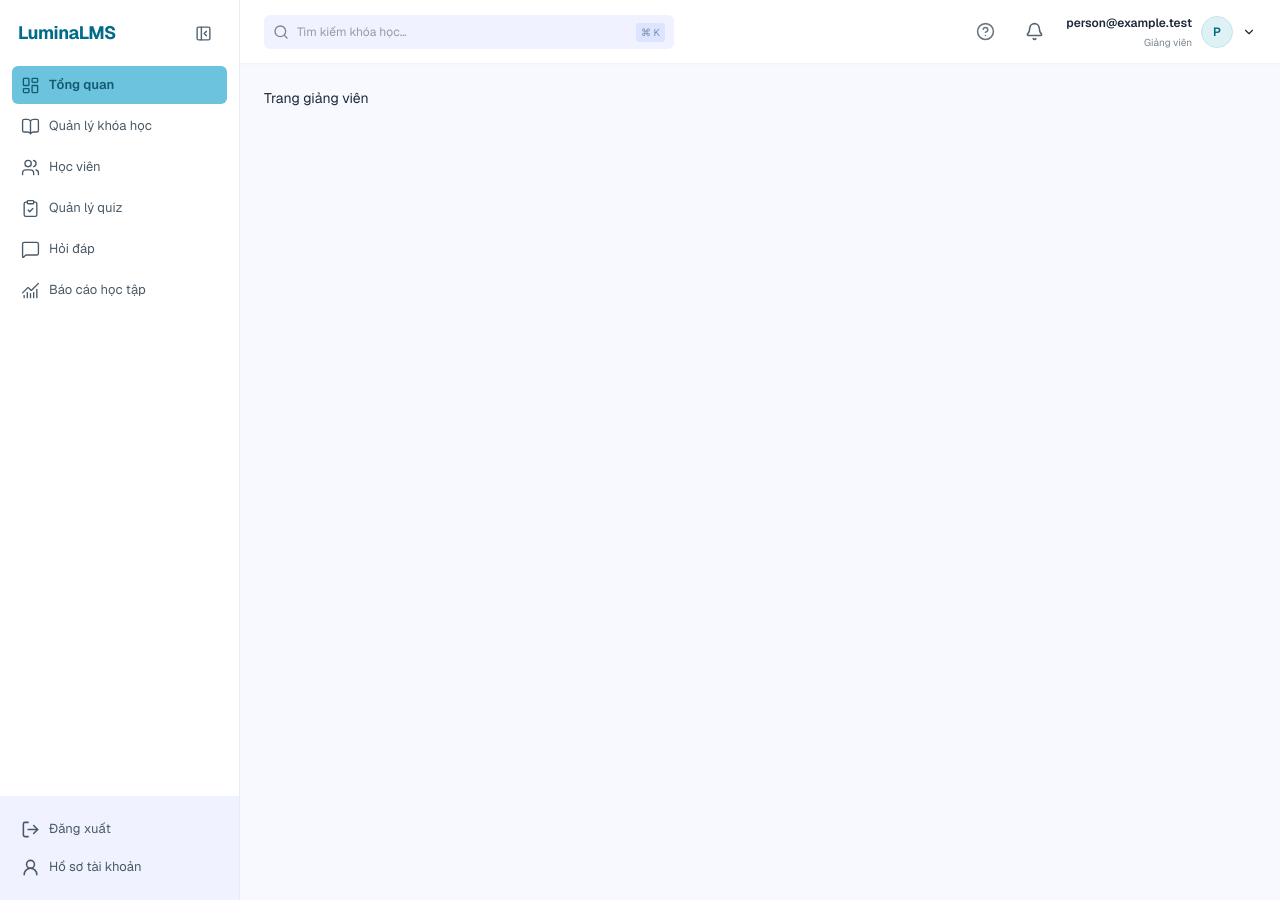
Dashboard role navigation › can collapse and expand the desktop sidebar without losing accessible labels
Click the button named "Thu gọn sidebar" at point(203, 33), box [185,15,221,51]
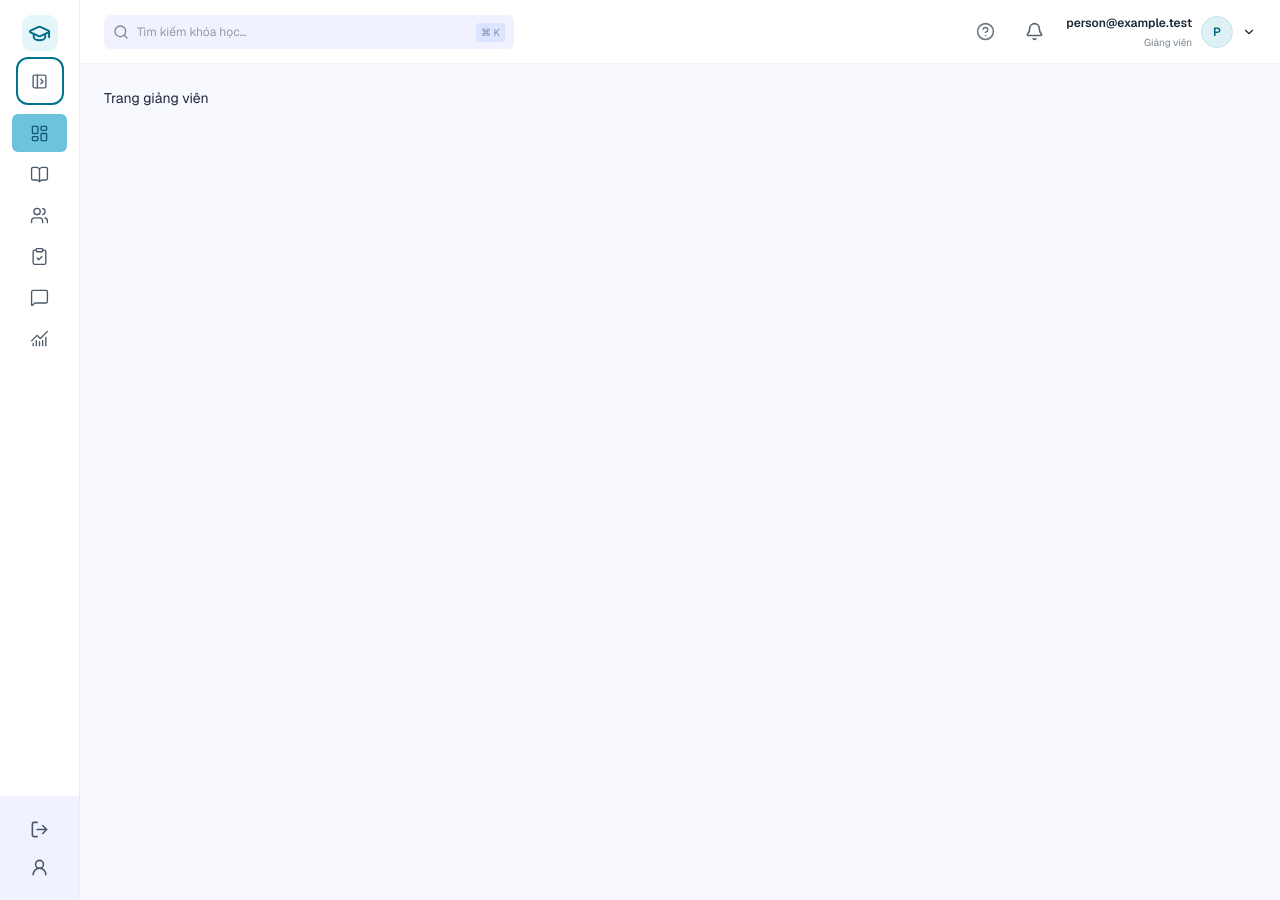
Expected: the link named "Quản lý khóa học" is shown, [12,155,67,193]
Expected: the button named "Mở rộng sidebar" is collapsed
Click the button named "Mở rộng sidebar" at point(40, 81), box [22,63,58,99]
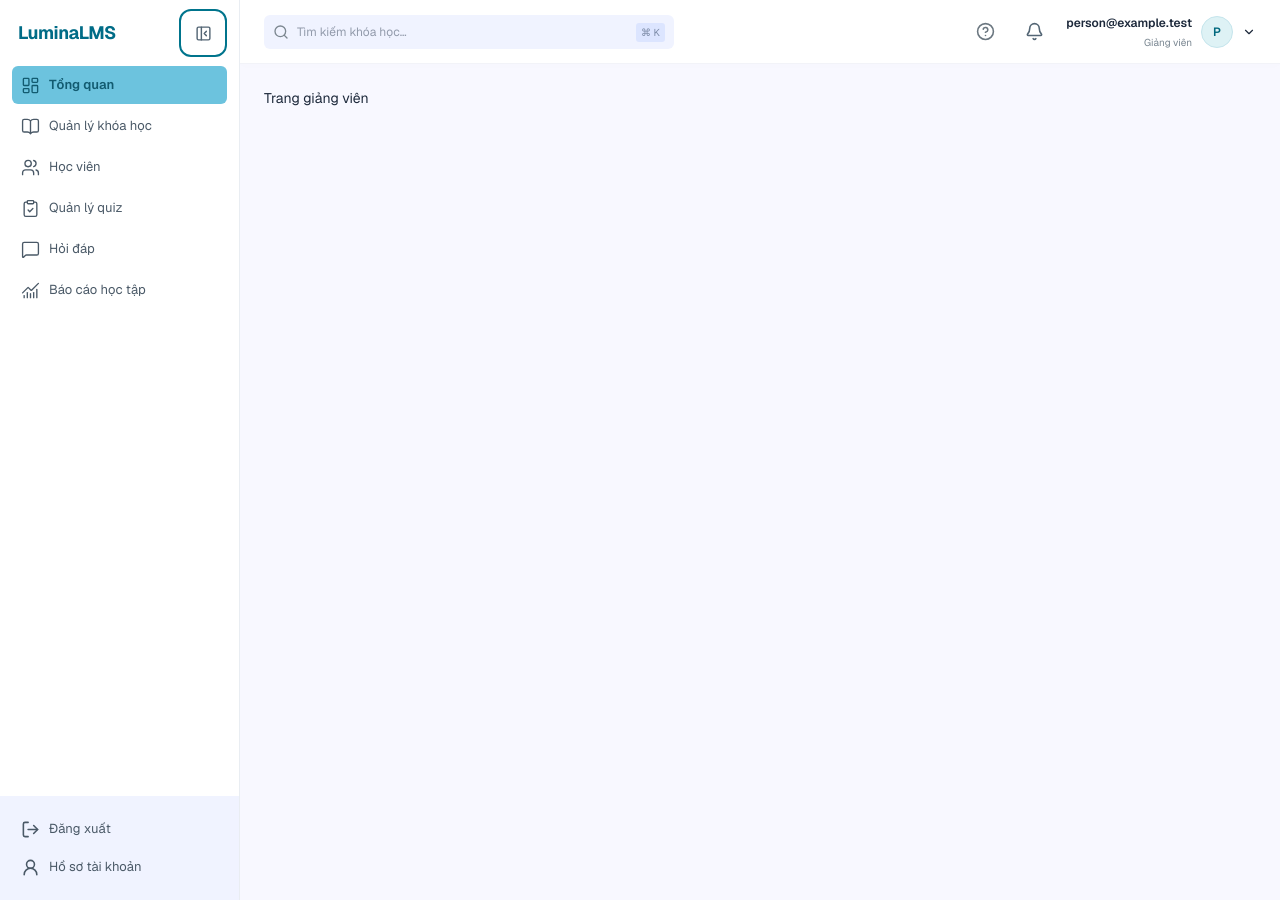
Expected: the button named "Thu gọn sidebar" is expanded, [185,15,221,51]
